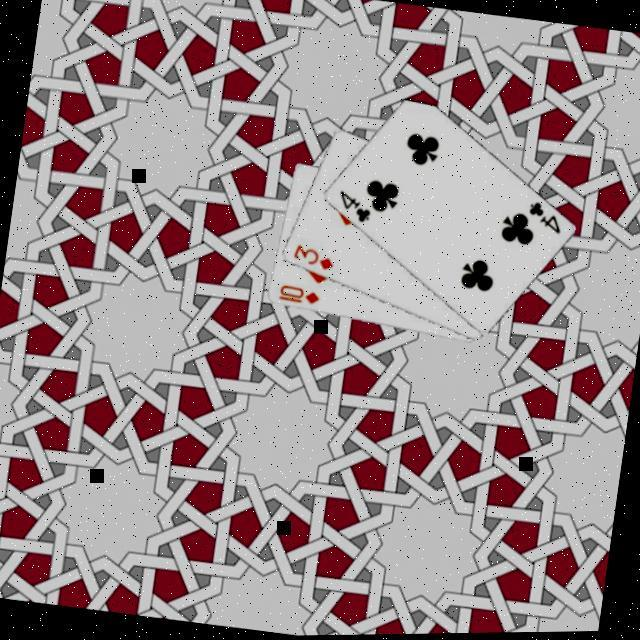10D: (273, 282, 322, 311)
3D: (287, 242, 338, 278)
4C: (331, 188, 376, 230), (521, 199, 566, 241)
